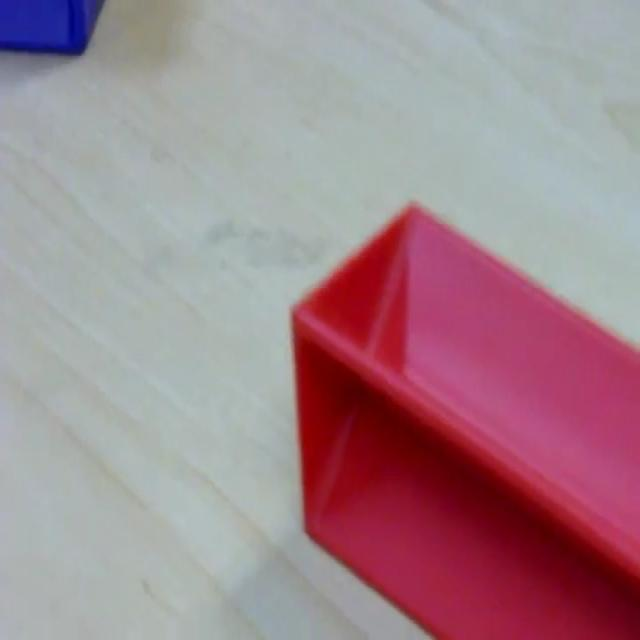red_block: (289, 197, 638, 636)
